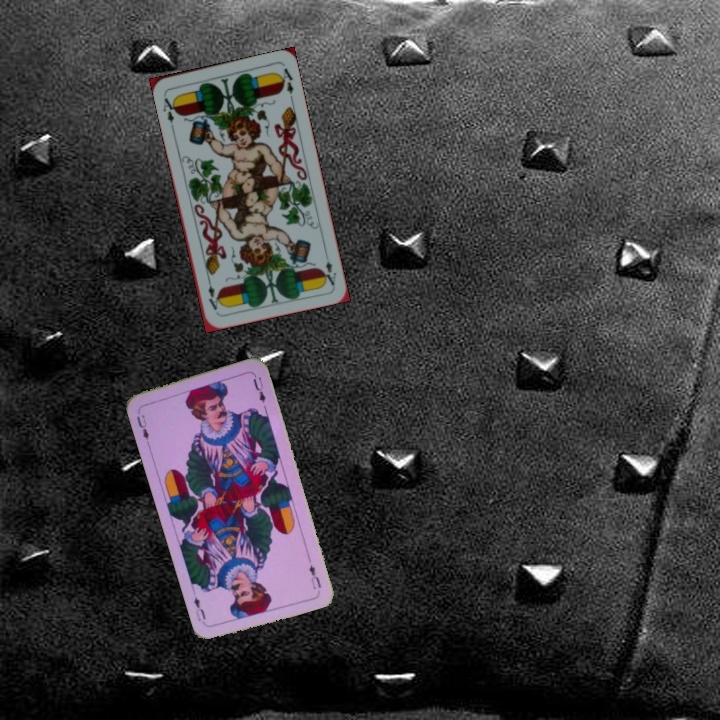EA: (159, 90, 181, 131), (318, 248, 339, 288)
EU: (133, 410, 152, 446), (305, 561, 324, 592)
